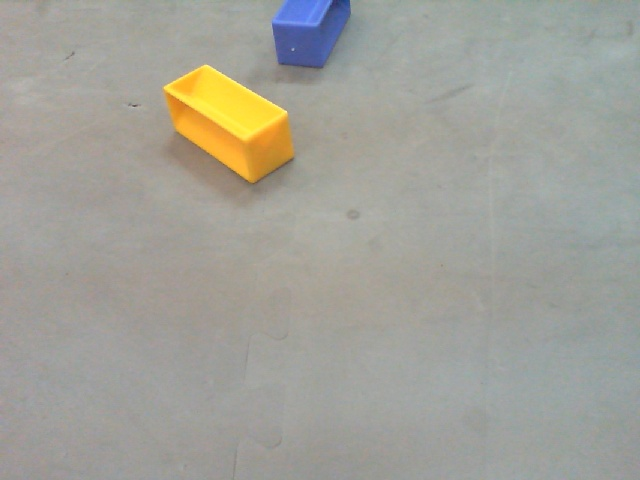BlueSample: (271, 1, 354, 68)
YellowSample: (160, 67, 297, 187)
